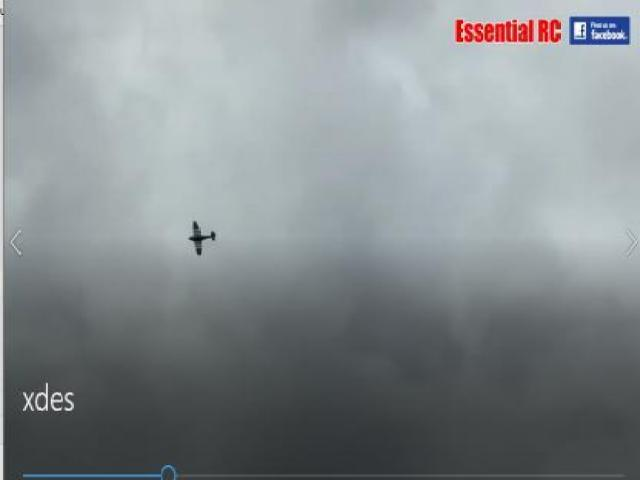uav: (184, 213, 218, 260)
